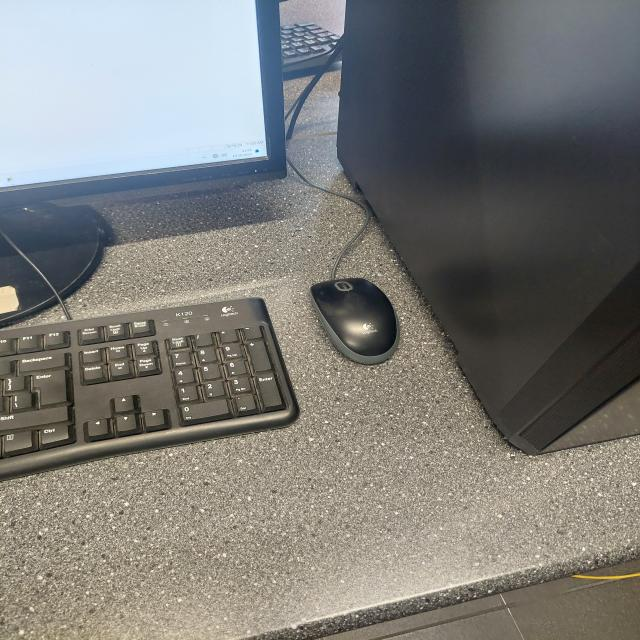mysz: (300, 270, 408, 372)
